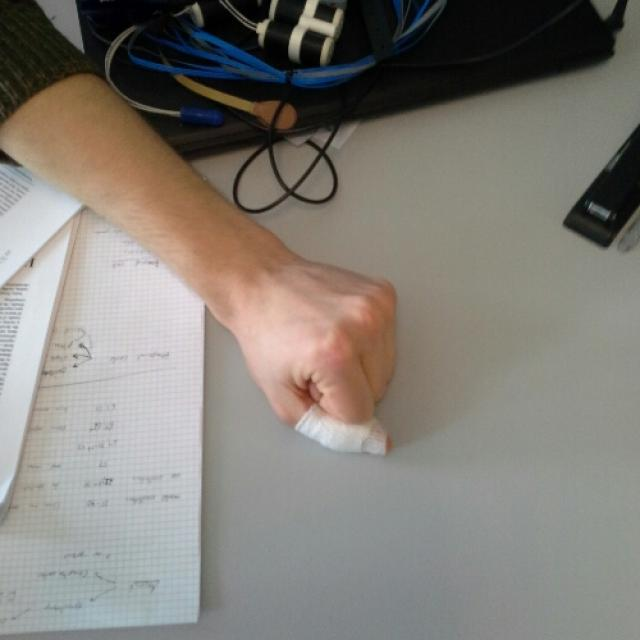rock: (239, 258, 404, 460)
